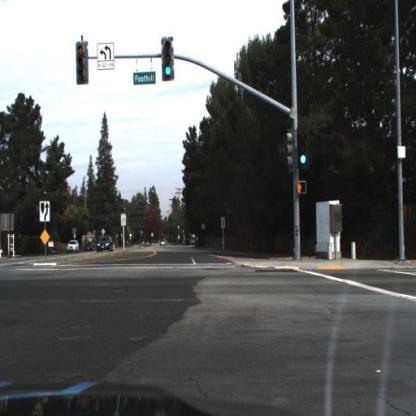car: (96, 234, 116, 255), (66, 239, 84, 255)
trafficLight-Green: (296, 128, 310, 171), (162, 37, 175, 82)
